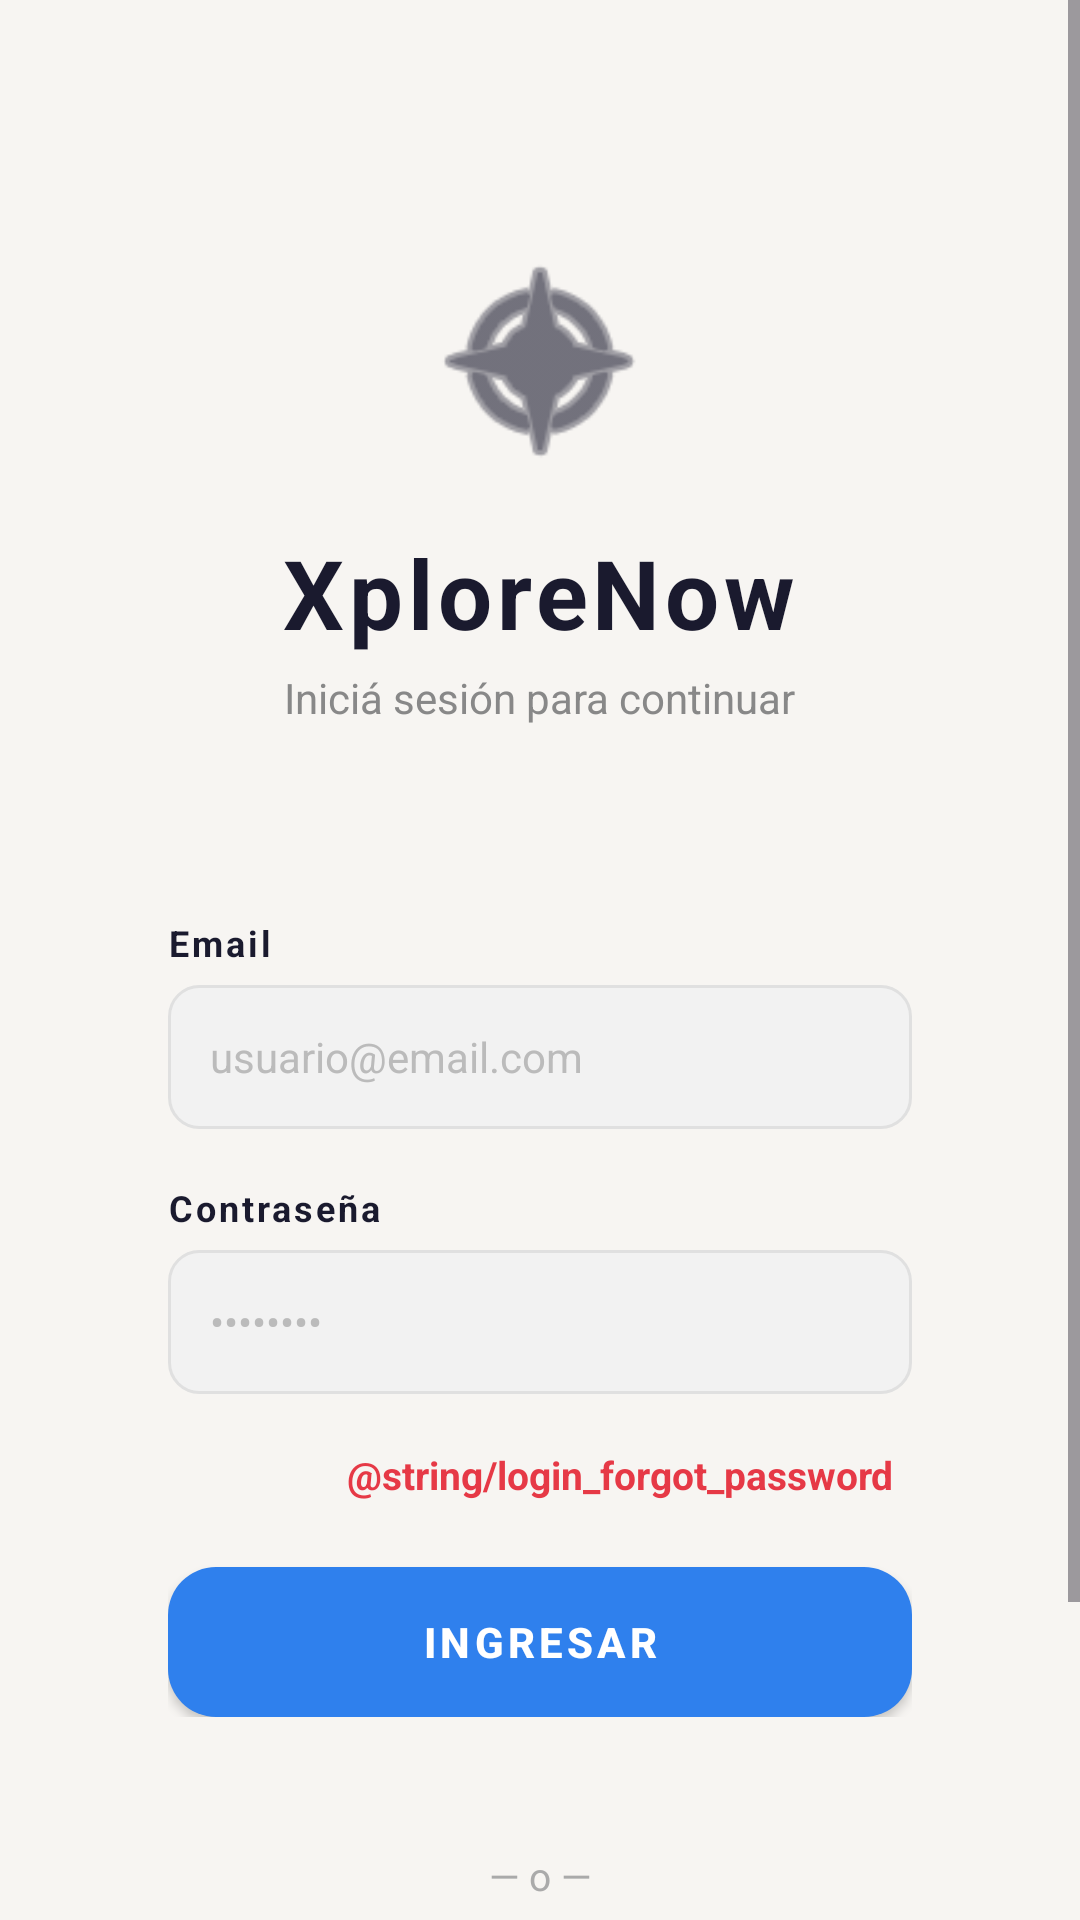

Icons on this 1080 × 1920 Android screen, each with the point to tap as [x,y]:
compass: [539,361]
